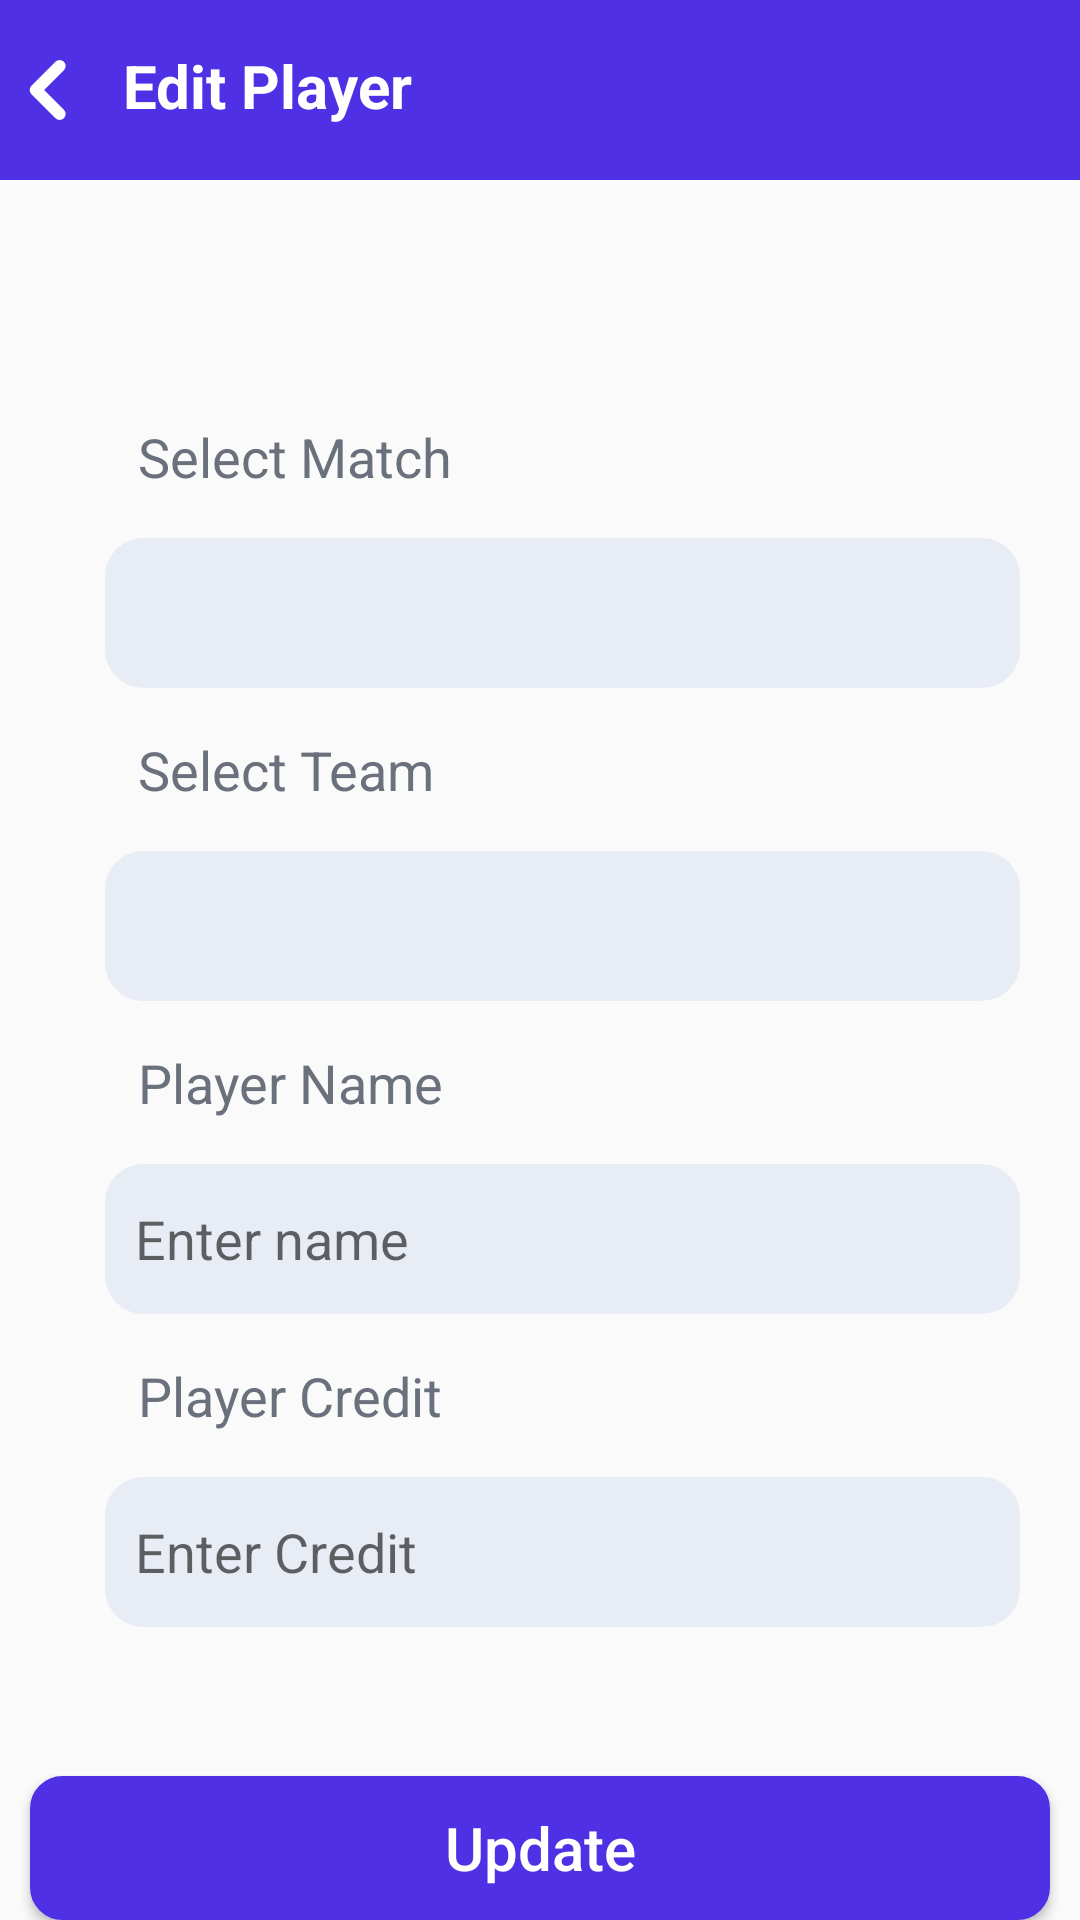

Locate icon controls on the screen. Image size 1080px x 1920px, boxes as region(x1, y1, x2, y2).
back arrow: region(29, 60, 66, 120)
